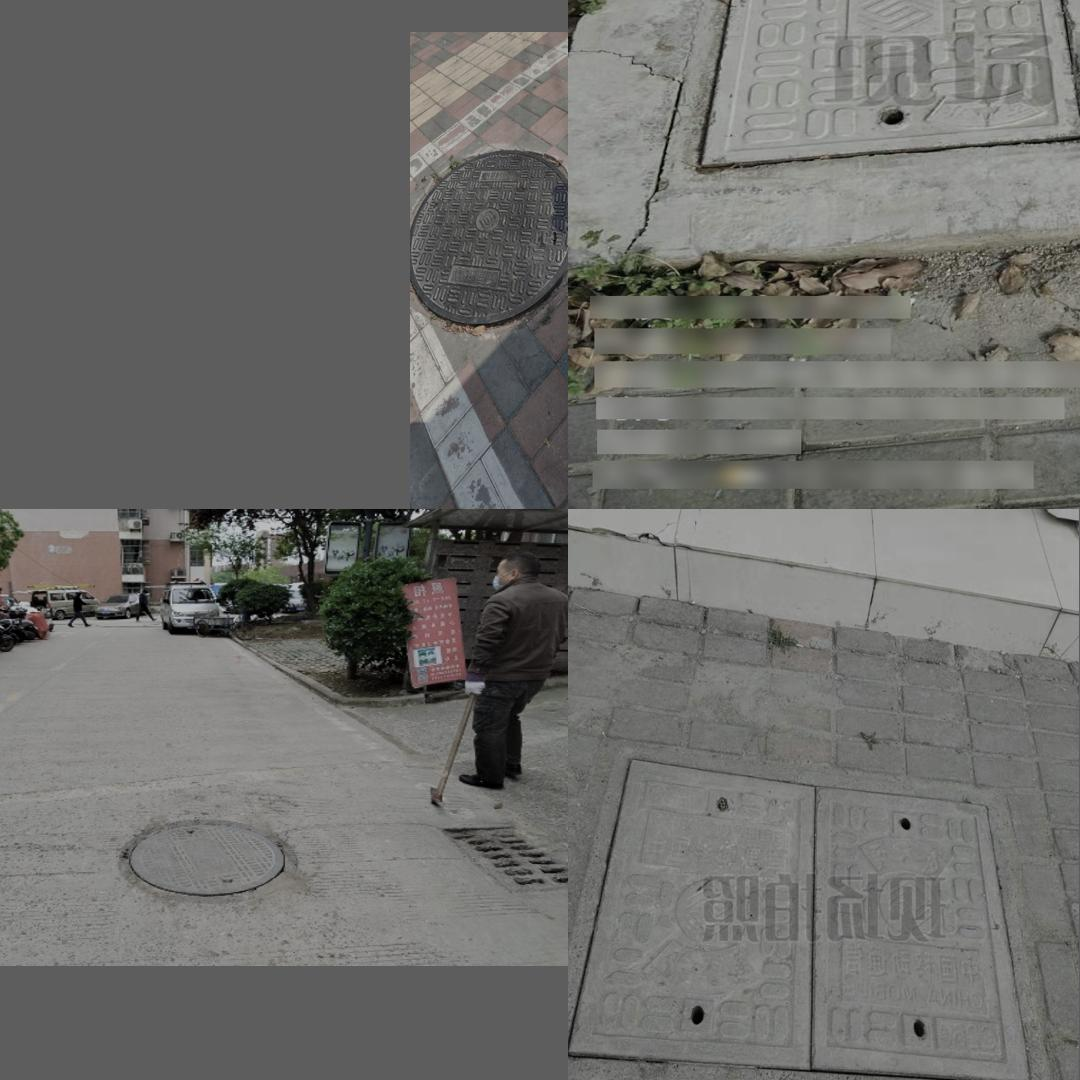good: (568, 747, 1035, 1080), (670, 0, 1080, 170), (410, 149, 566, 323), (119, 819, 296, 901)
